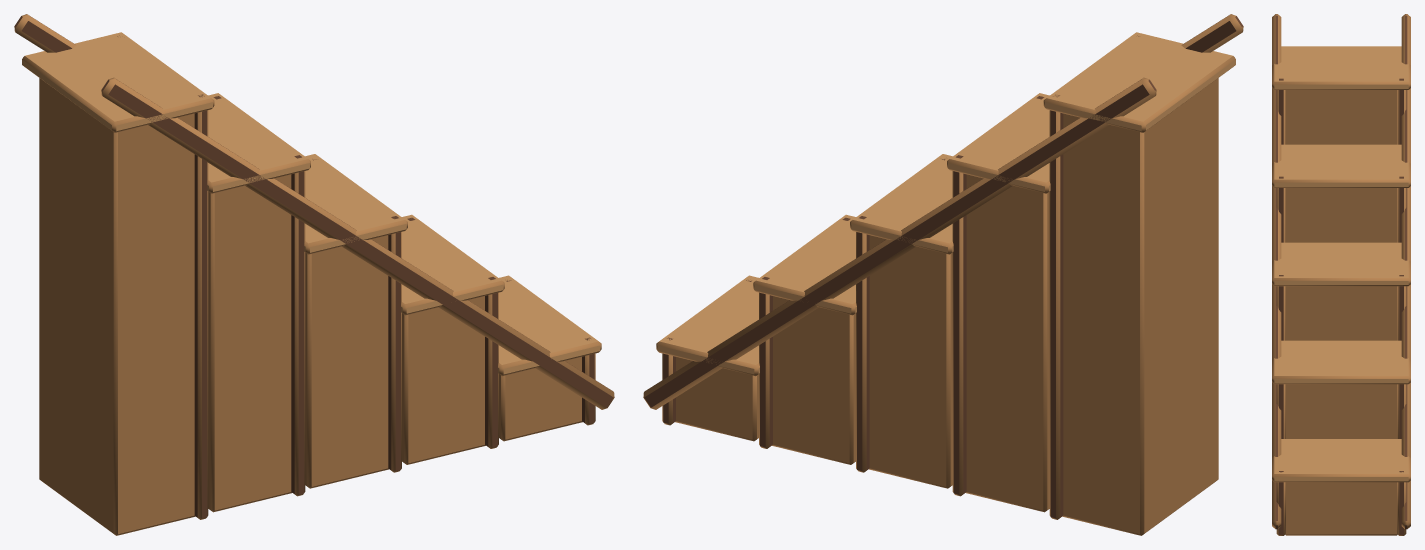
File: tide_ladder.glb
3 views of the same model, side by side, from view 1: azimuth 30°, elevation 25°; view 2: azimuth 150°, elevation 25°; view 3: azimuth 270°, elevation 25° (orthographic). The views are drawn at different scales.
Visible parts, largest first — view 1: tide_ladder; view 2: tide_ladder; view 3: tide_ladder.
Part boxes in pixels (<box>): tide_ladder: <box>14,14,614,535</box>; tide_ladder: <box>643,14,1243,535</box>; tide_ladder: <box>1272,14,1410,535</box>.
Size of the model in its own units: 3.8 by 3.3 by 1.2.
